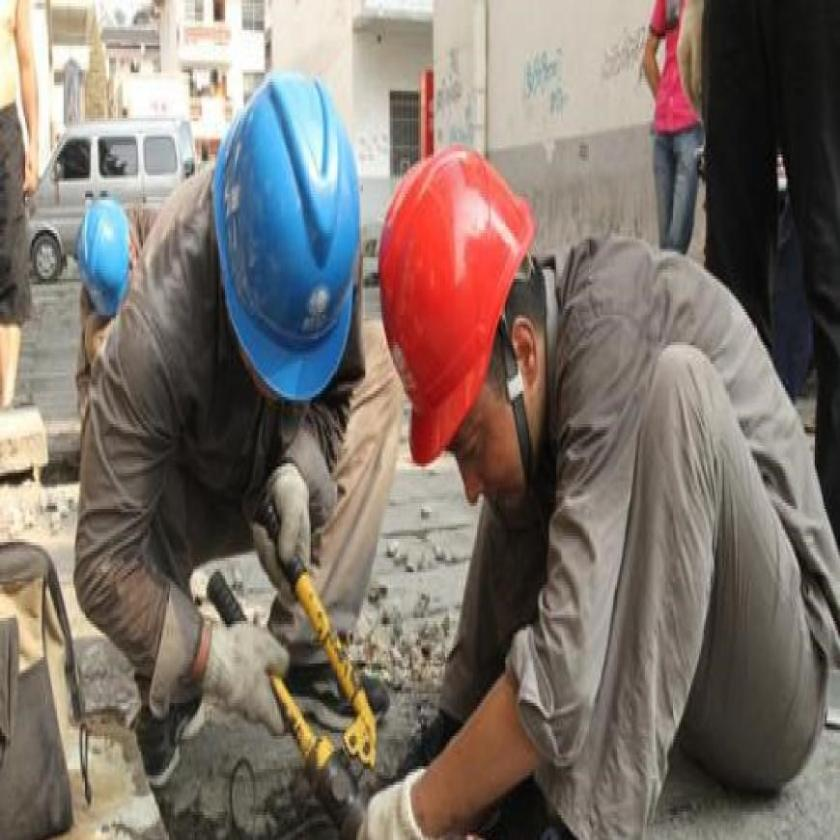Con_casco: (370, 141, 548, 509), (210, 59, 367, 410)
